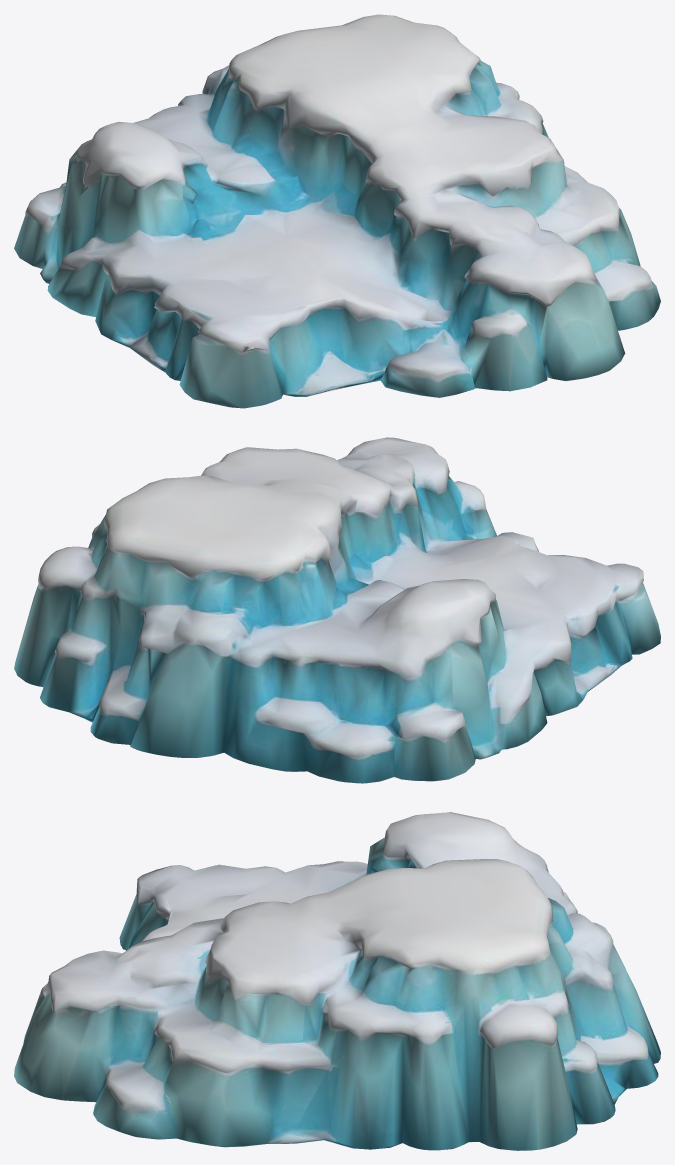
The model's file is glacier-outcrop-mobile.glb.
The picture shows the model from 3 angles, top to bottom: view 1: azimuth 30°, elevation 25°; view 2: azimuth 150°, elevation 25°; view 3: azimuth 270°, elevation 25°; orthographic projection. The views are drawn at different scales.
Parts seen in each view (by area): view 1: node_0; view 2: node_0; view 3: node_0.
Boxes of the visible parts, x1,y1,x2,y2 form: node_0: (14,14,660,408); node_0: (14,437,660,783); node_0: (14,812,660,1150).
Size of the model in its own units: 0.9364 by 0.3148 by 1.09.
Materials: 1 (1 with a texture image).
